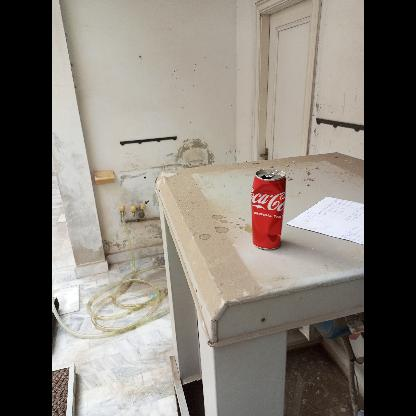Dent_Can: (251, 169, 286, 250)
Lid_Open: (260, 170, 280, 180)
Tin_Can: (250, 169, 286, 251)
